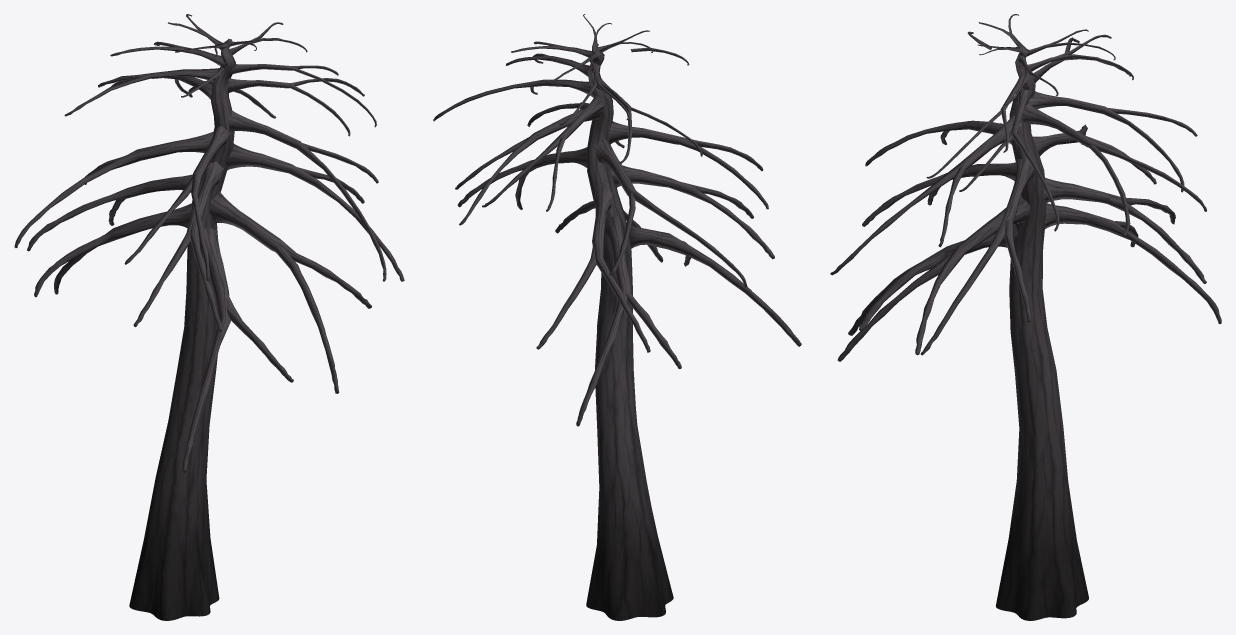
The model's file is dead2.glb.
3 views of the same model, side by side, from view 1: azimuth 30°, elevation 25°; view 2: azimuth 150°, elevation 25°; view 3: azimuth 270°, elevation 25° (orthographic). The views are drawn at different scales.
Parts seen in each view (by area): view 1: DeadTree_4; view 2: DeadTree_4; view 3: DeadTree_4.
Part boxes in pixels (x1,y1,x2,y2): DeadTree_4: [14, 14, 404, 620]; DeadTree_4: [433, 14, 801, 620]; DeadTree_4: [830, 14, 1221, 620].
Bounding box in the file's own units: 5.17 × 8.3 × 5.03.
1 material, 1 textured.
